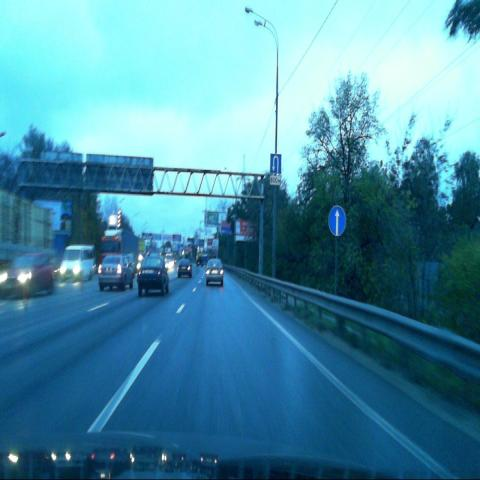4_1_1: (328, 206, 346, 235)
